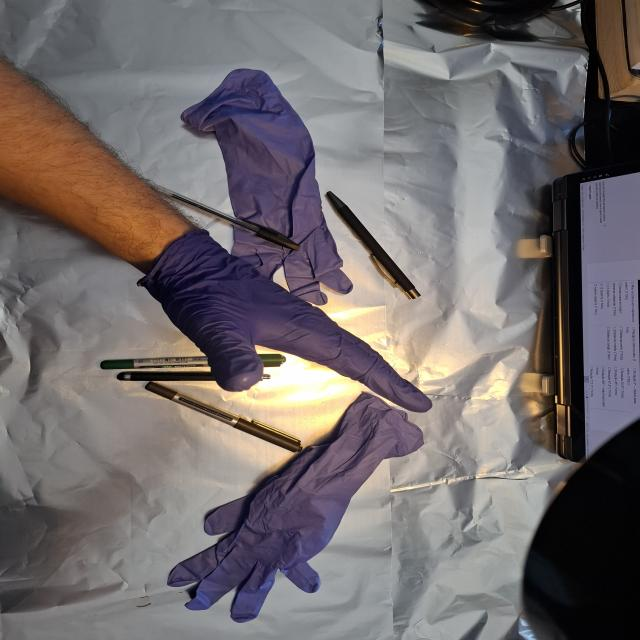glove_on: (144, 229, 436, 415)
